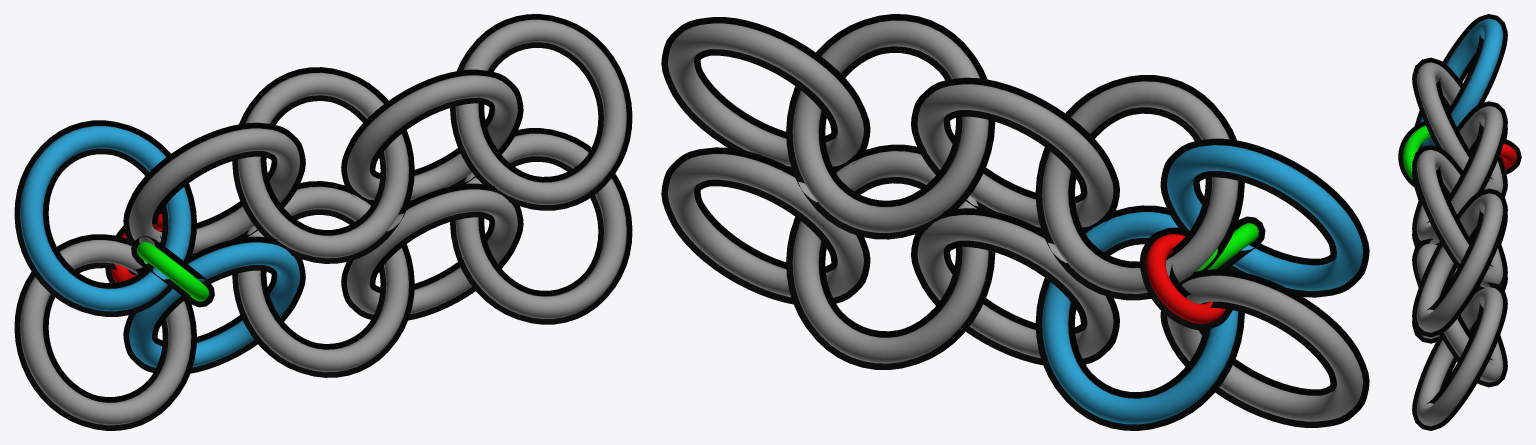
The model's file is magus_weave_step_05.glb.
The picture shows the model from 3 angles, left to right: view 1: azimuth 30°, elevation 25°; view 2: azimuth 150°, elevation 25°; view 3: azimuth 270°, elevation 25°; orthographic projection. The views are drawn at different scales.
Parts seen in each view (by area): view 1: Torus.721, Torus.725, Torus.723, Torus.730, Torus.726, Torus.728, Torus.722, Torus.724, Torus.727, Torus.729, Torus.771, Torus.770; view 2: Torus.722, Torus.724, Torus.727, Torus.721, Torus.725, Torus.726, Torus.729, Torus.730, Torus.723, Torus.728, Torus.770, Torus.771; view 3: Torus.721, Torus.726, Torus.722, Torus.725, Torus.723, Torus.724, Torus.727, Torus.771, Torus.770, Torus.728.
Part boxes in pixels (box(x1,y1,x2,y2)): Torus.721: box(450, 14, 632, 210); Torus.725: box(14, 120, 196, 316); Torus.723: box(232, 67, 414, 263); Torus.730: box(14, 234, 196, 430); Torus.726: box(450, 128, 632, 324); Torus.728: box(232, 181, 414, 377); Torus.722: box(341, 69, 523, 205); Torus.724: box(123, 122, 305, 254); Torus.727: box(341, 183, 523, 320); Torus.729: box(123, 236, 305, 373); Torus.771: box(131, 236, 214, 307); Torus.770: box(105, 211, 162, 282); Torus.722: box(786, 14, 995, 239); Torus.724: box(1035, 75, 1244, 300); Torus.727: box(786, 144, 995, 369); Torus.721: box(661, 17, 870, 172); Torus.725: box(1160, 138, 1369, 297); Torus.726: box(661, 147, 870, 304); Torus.729: box(1035, 205, 1244, 430); Torus.730: box(1160, 269, 1369, 427); Torus.723: box(911, 77, 1119, 233); Torus.728: box(911, 208, 1119, 365); Torus.770: box(1140, 227, 1232, 330); Torus.771: box(1196, 216, 1265, 271); Torus.721: box(1412, 188, 1507, 337); Torus.726: box(1412, 282, 1507, 430); Torus.722: box(1412, 145, 1507, 290); Torus.725: box(1414, 14, 1507, 146); Torus.723: box(1412, 101, 1507, 244); Torus.724: box(1412, 57, 1507, 196); Torus.727: box(1412, 238, 1507, 387); Torus.771: box(1398, 121, 1431, 187); Torus.770: box(1498, 139, 1521, 174); Torus.728: box(1412, 215, 1507, 343).
Bounding box in the file's own units: 12.28 × 5.29 × 2.63.
